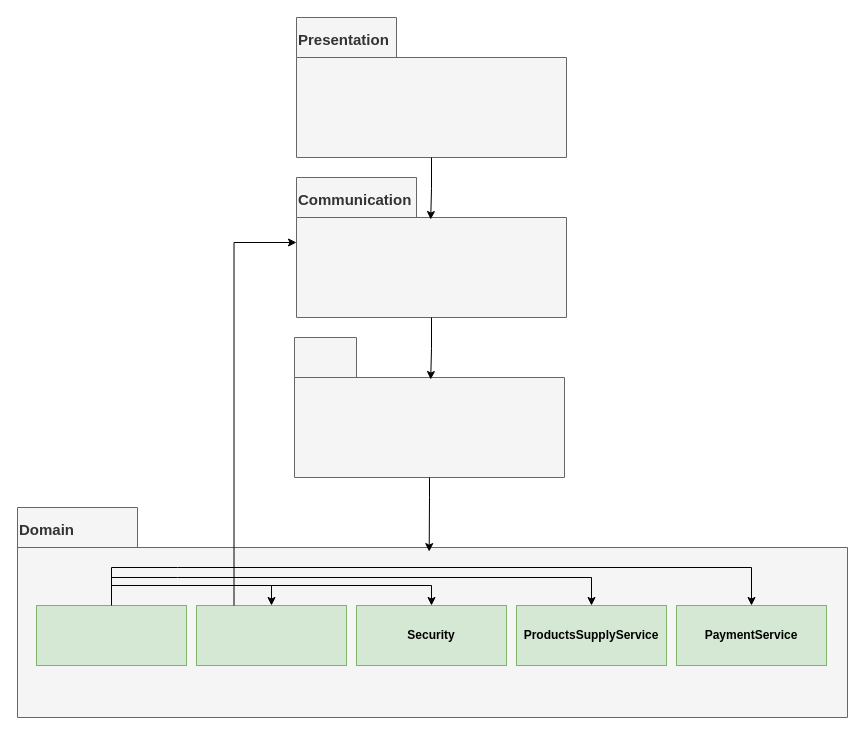
This 865x735 diagram has some shape labels left out. Here are the shapes that lost their labels. From the top down, the centre of each, then its label:
At (429,407): "Service".
At (111,635): "Market".
At (271,635): "Publisher".
